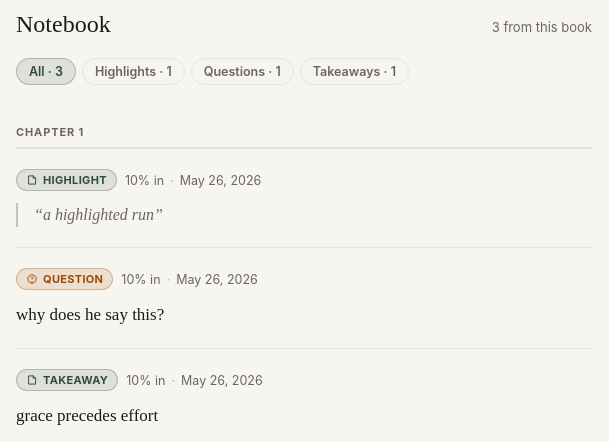
NotesBrowser chapter notebook › offers category filter chips with counts and filters the list
Expected: the text "grace precedes effort" is shown, left=16, top=406, right=158, bottom=425
Expected: the button "Questions · 1" is shown, left=191, top=58, right=294, bottom=85
Note: Filtering to Takeaways hides the question.
Click the button "Takeaways · 1".
click(354, 72)  # box left=300, top=58, right=409, bottom=85
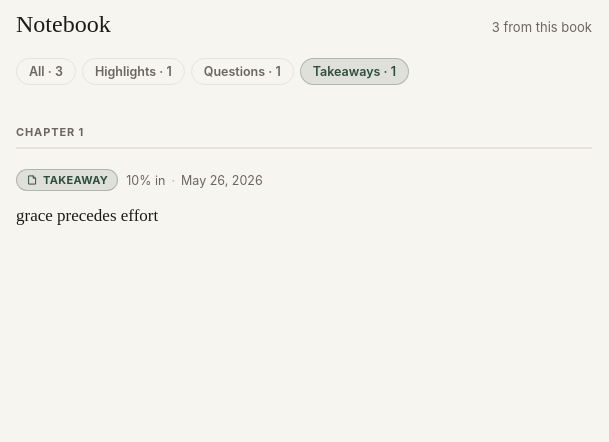
Expected: the text "grace precedes effort" is shown, left=16, top=206, right=158, bottom=225
Expected: the text "why does he say this?" is gone
